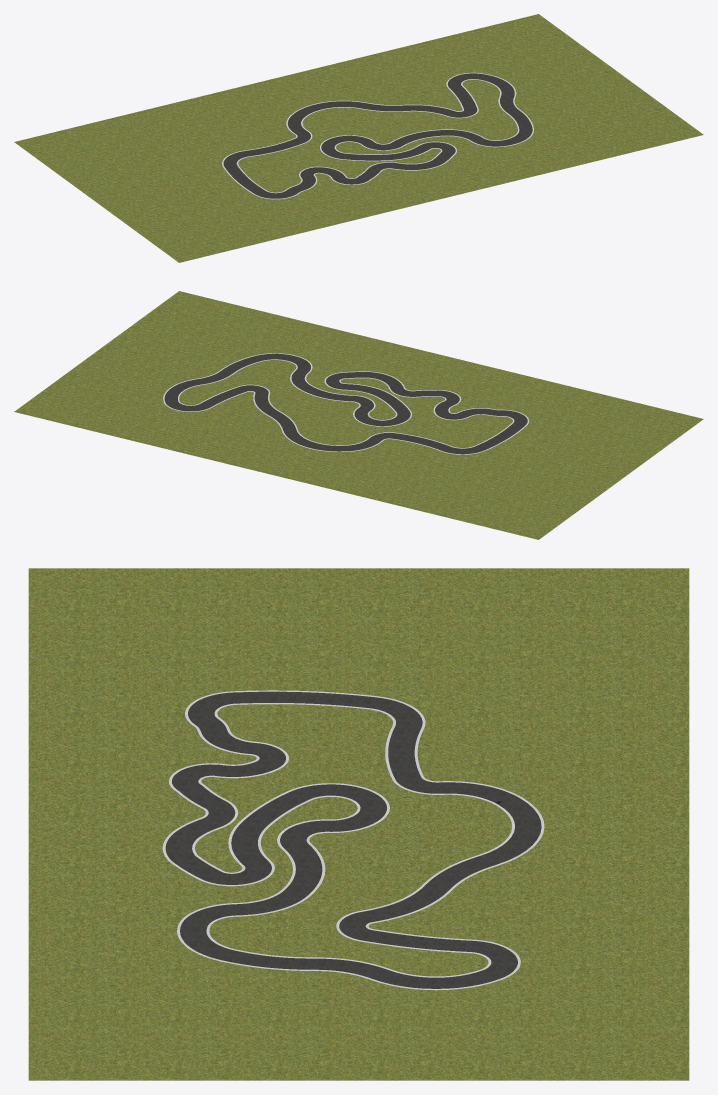
The model's file is track10.dae.
3 views of the same model, one above another, from view 1: azimuth 30°, elevation 25°; view 2: azimuth 150°, elevation 25°; view 3: azimuth 270°, elevation 25° (orthographic). The views are drawn at different scales.
Parts seen in each view (by area): view 1: field, road, outerline, innerline; view 2: field, road, outerline, innerline; view 3: field, road, outerline, innerline.
Part boxes in pixels (bbox=[...]): field: bbox=[14, 14, 703, 262]; road: bbox=[223, 73, 532, 198]; outerline: bbox=[222, 72, 533, 199]; innerline: bbox=[236, 79, 519, 193]; field: bbox=[14, 291, 703, 539]; road: bbox=[164, 353, 527, 454]; outerline: bbox=[163, 353, 529, 454]; innerline: bbox=[178, 359, 514, 448]; field: bbox=[28, 568, 689, 1080]; road: bbox=[165, 691, 541, 988]; outerline: bbox=[162, 690, 544, 990]; innerline: bbox=[192, 703, 514, 977].
Bounding box in the file's own units: 74.83 × 40.8 × 0.01.
Materials: 3 (3 with a texture image).
